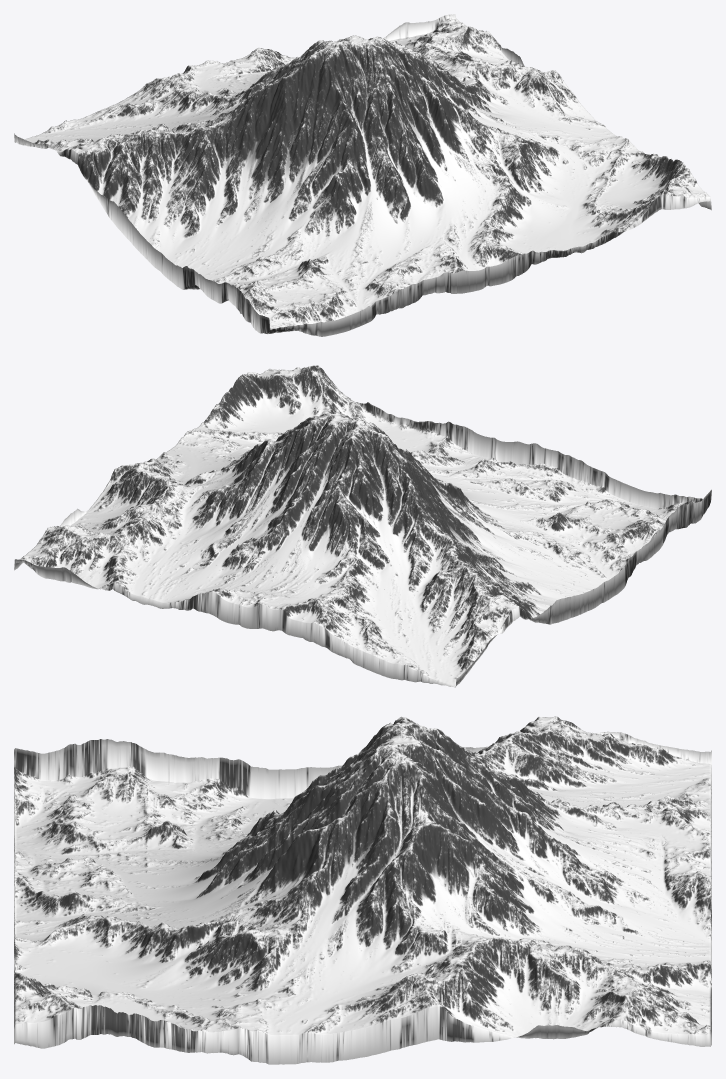
File: Mountain7.glb
3 views of the same model, one above another, from view 1: azimuth 30°, elevation 25°; view 2: azimuth 150°, elevation 25°; view 3: azimuth 270°, elevation 25° (orthographic). The views are drawn at different scales.
Visible parts, largest first — view 1: Plane; view 2: Plane; view 3: Plane.
Boxes of the visible parts, x1,y1,x2,y2 form: Plane: (14,14,711,336); Plane: (14,365,711,687); Plane: (14,716,711,1064).
Bounding box in the file's own units: 15.81 × 5.39 × 15.81.
Materials: 1 (1 with a texture image).
